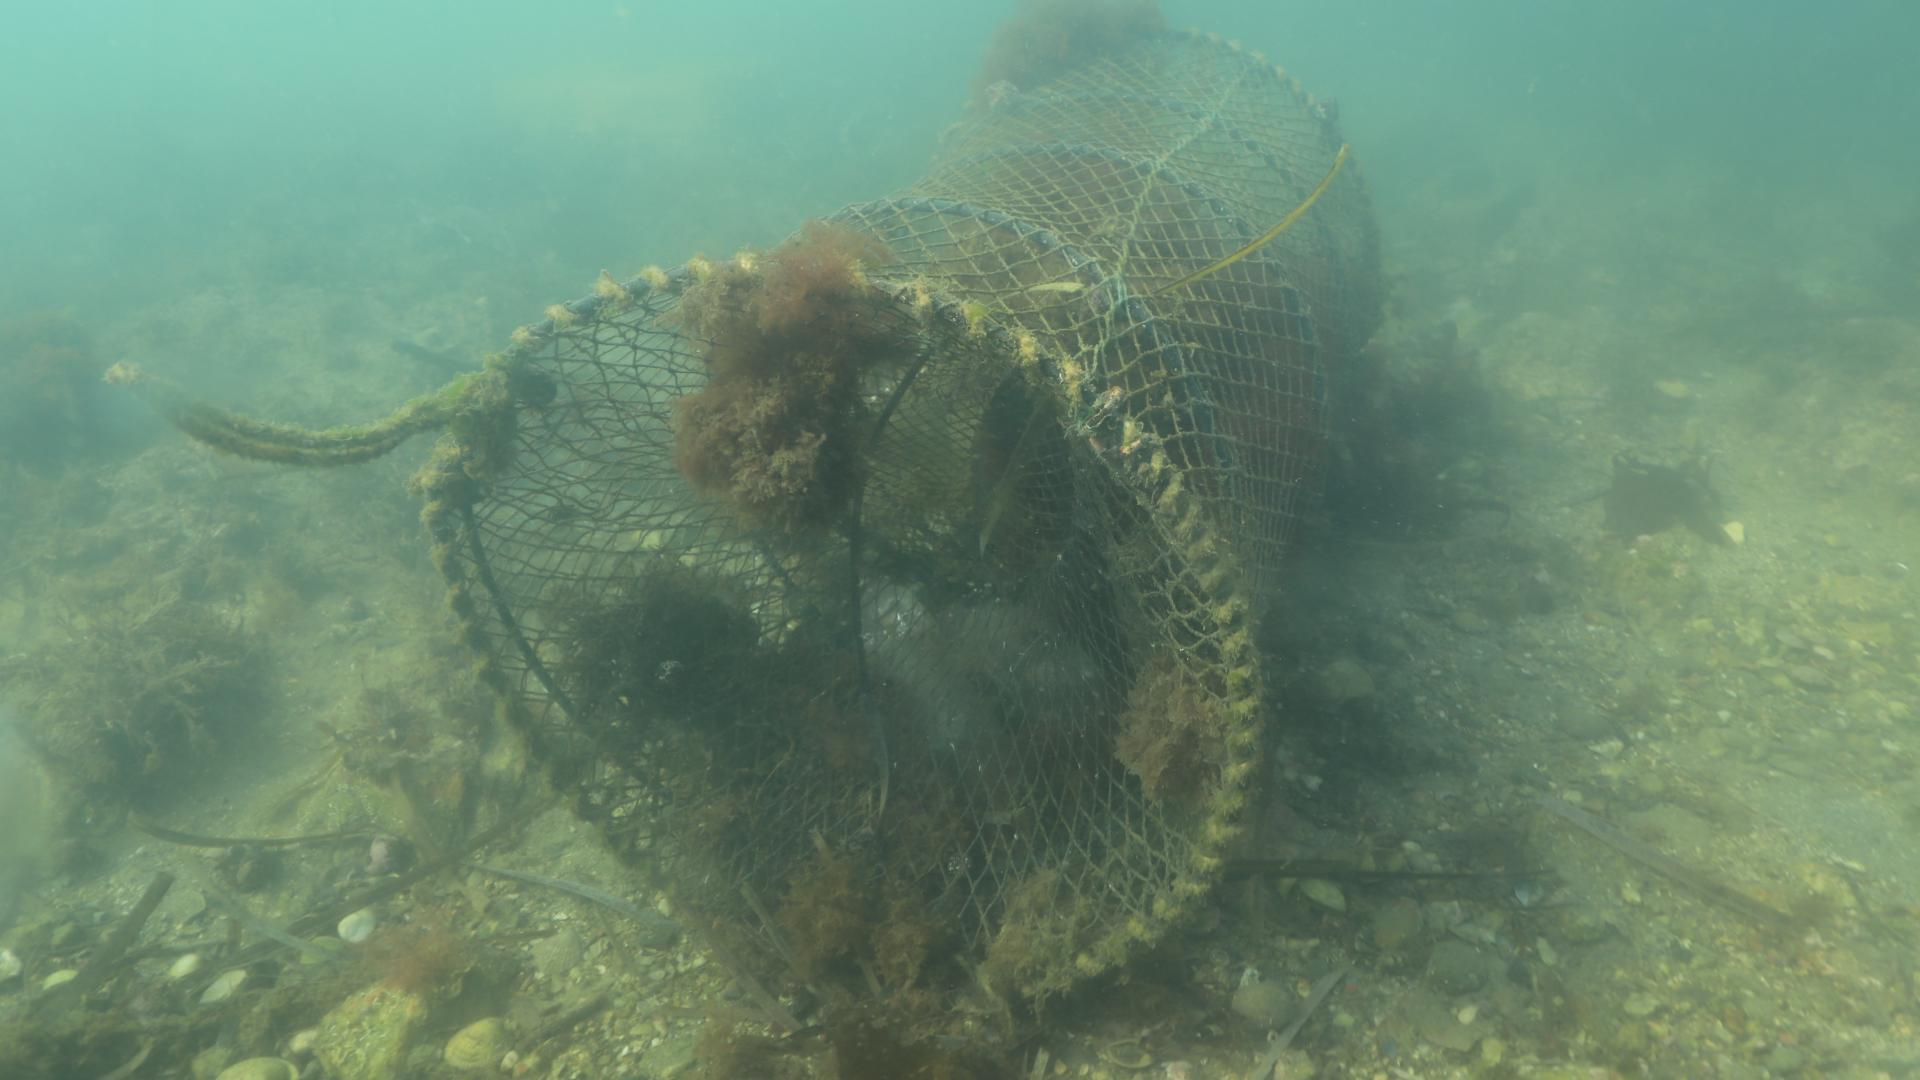bundle of ropes: (104, 353, 479, 472)
spring fish trap: (419, 22, 1386, 1026)
